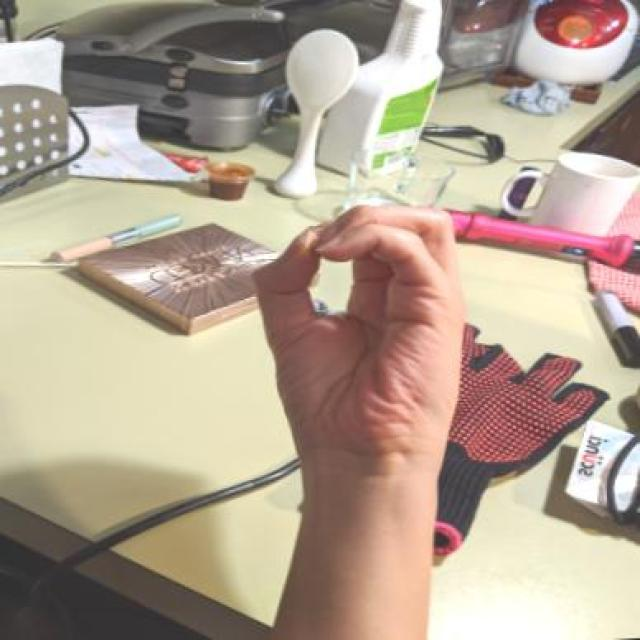O: (226, 188, 531, 519)
